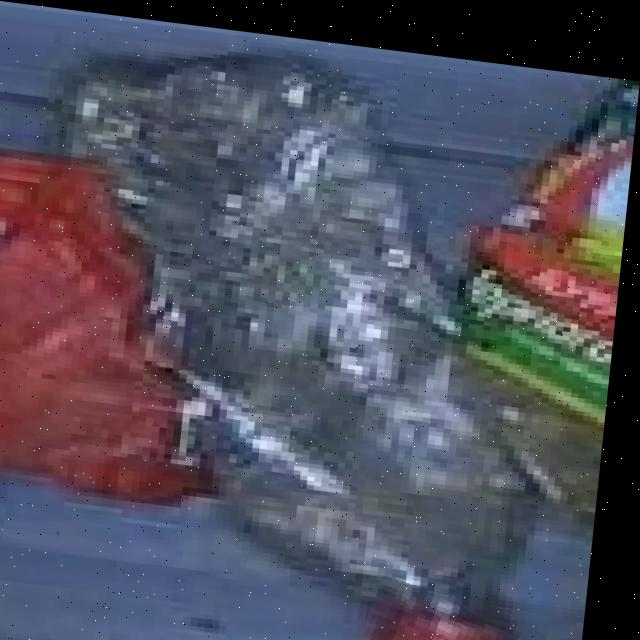plasticbottlecap: (375, 569, 561, 640)
